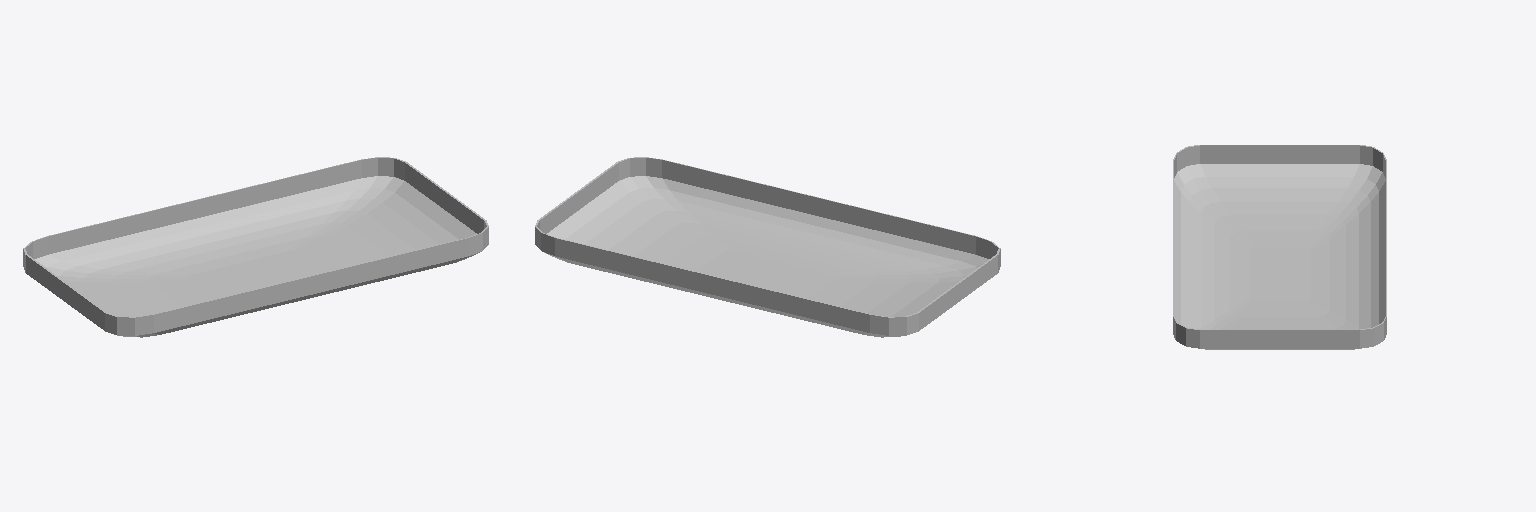
The model's file is ScreenGlass2.obj.
3 renders of one model, left to right at view 1: azimuth 30°, elevation 25°; view 2: azimuth 150°, elevation 25°; view 3: azimuth 270°, elevation 25°, orthographic.
Visible parts, largest first — view 1: Cube.004; view 2: Cube.004; view 3: Cube.004.
Part boxes in pixels (left/top/right/bottom): Cube.004: left=23, top=157, right=488, bottom=337; Cube.004: left=535, top=157, right=1000, bottom=337; Cube.004: left=1173, top=145, right=1386, bottom=349.
Size of the model in its own units: 0.4058 by 0.0376 by 0.1981.